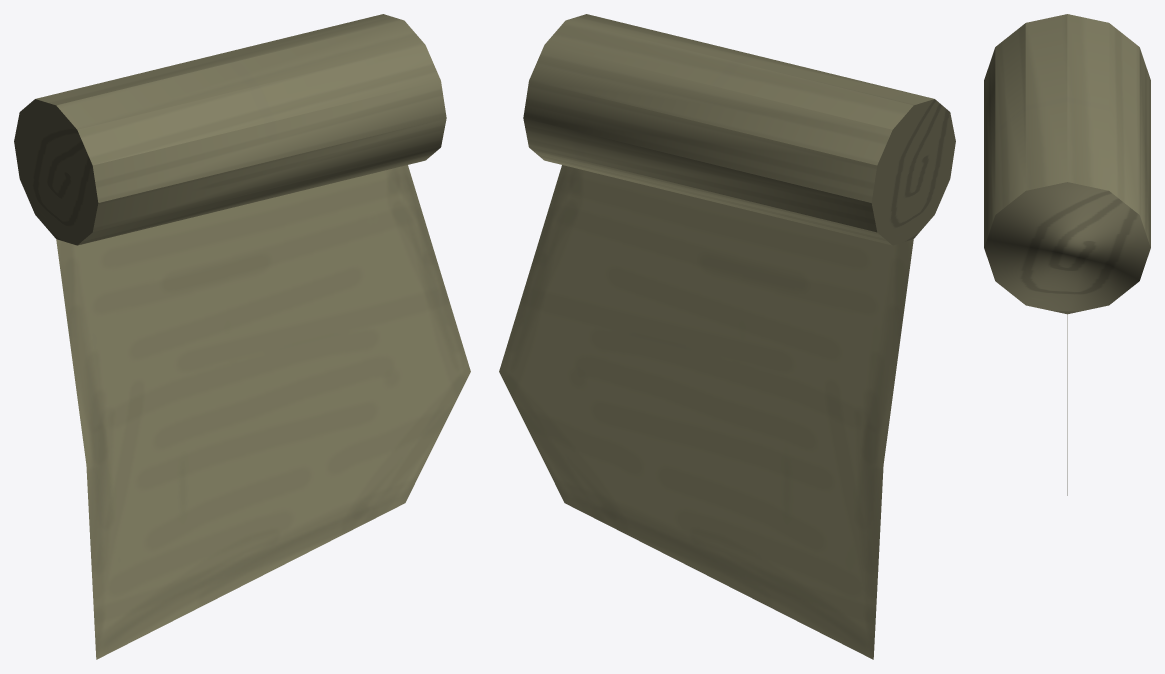
The model's file is frammentoPergamena1.fbx.
3 renders of one model, left to right at view 1: azimuth 30°, elevation 25°; view 2: azimuth 150°, elevation 25°; view 3: azimuth 270°, elevation 25°, orthographic.
Parts seen in each view (by area): view 1: Cylinder.000; view 2: Cylinder.000; view 3: Cylinder.000.
Boxes of the visible parts, x1,y1,x2,y2 form: Cylinder.000: [14, 14, 470, 659]; Cylinder.000: [499, 14, 955, 659]; Cylinder.000: [984, 14, 1150, 495].
Size of the model in its own units: 40.58 by 52.76 by 14.29.
